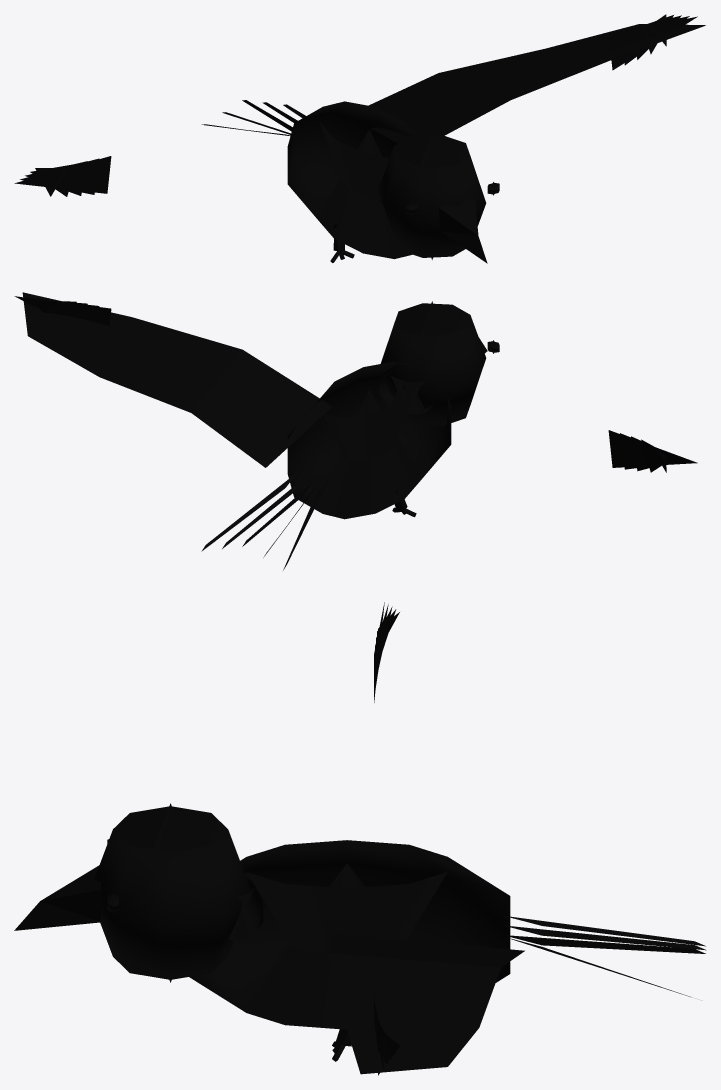
The model's file is gliding_05.glb.
3 views of the same model, one above another, from view 1: azimuth 30°, elevation 25°; view 2: azimuth 150°, elevation 25°; view 3: azimuth 270°, elevation 25° (orthographic). The views are drawn at different scales.
Parts seen in each view (by area): view 1: RaptorBody; view 2: RaptorBody; view 3: RaptorBody.
Boxes of the visible parts, box(x1,y1,x2,y2) form: RaptorBody: box(14, 14, 705, 263); RaptorBody: box(14, 292, 697, 570); RaptorBody: box(14, 602, 706, 1075).
Size of the model in its own units: 1.79 by 0.4166 by 1.12.
7 materials, 7 textured.
